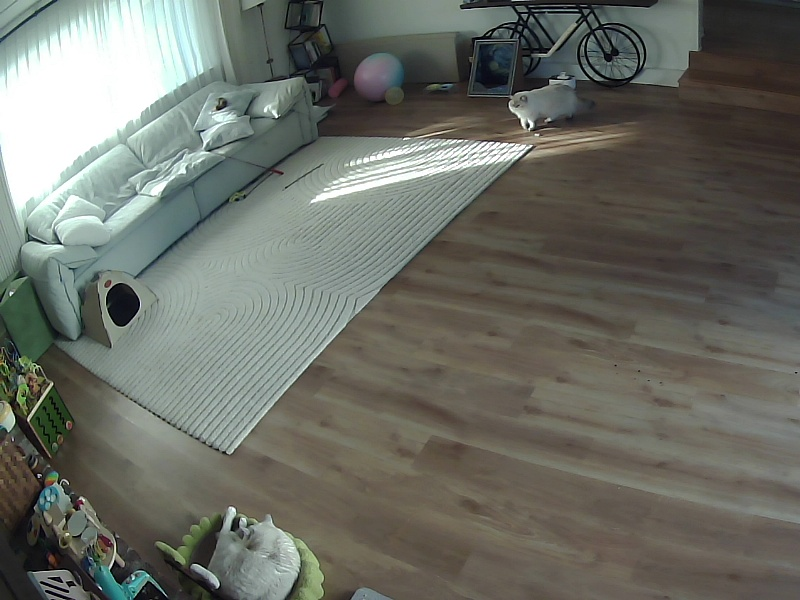Qb-2: (190, 507, 300, 599)
Qbo-2: (508, 84, 594, 130)
